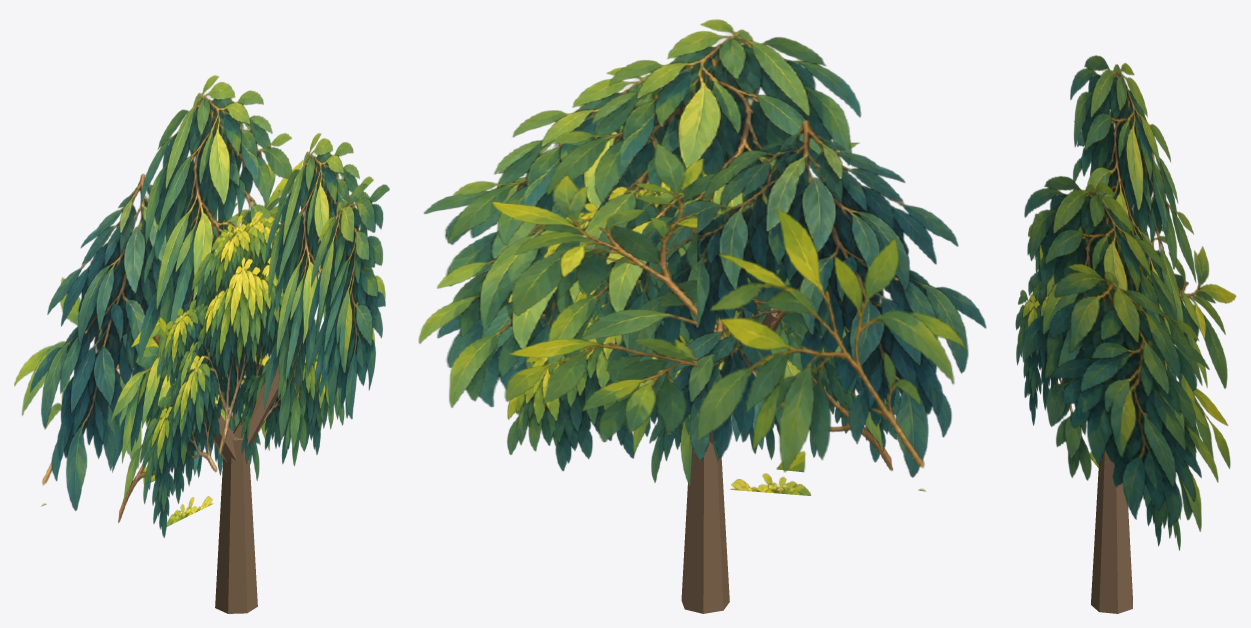
Rendered from TREE_NATIVE_ROUNDED_001_V4_TOP_CORRECTED_LOD_GAMEPLAY.glb.
3 views of the same model, side by side, from view 1: azimuth 30°, elevation 25°; view 2: azimuth 150°, elevation 25°; view 3: azimuth 270°, elevation 25° (orthographic). The views are drawn at different scales.
Visible parts, largest first — view 1: GG_NATIVE_RICH_CARD_03, GG_NATIVE_RICH_CARD_00, GG_NATIVE_RICH_CARD_01, GG_NATIVE_RICH_CARD_02, GG_NATIVE_RICH_CARD_05, GG_NATIVE_RICH_CARD_07, GG_NATIVE_V4_LOCKED_CARCASS_00, GG_NATIVE_RICH_CARD_04, GG_NATIVE_V4_LOCKED_CARCASS_02, GG_NATIVE_RICH_CARD_06, GG_NATIVE_V4_LOCKED_CARCASS_01; view 2: GG_NATIVE_RICH_CARD_01, GG_NATIVE_RICH_CARD_00, GG_NATIVE_RICH_CARD_06, GG_NATIVE_RICH_CARD_04, GG_NATIVE_RICH_CARD_02, GG_NATIVE_RICH_CARD_03, GG_NATIVE_RICH_CARD_07, GG_NATIVE_V4_LOCKED_CARCASS_00, GG_NATIVE_RICH_CARD_05; view 3: GG_NATIVE_RICH_CARD_05, GG_NATIVE_RICH_CARD_02, GG_NATIVE_RICH_CARD_00, GG_NATIVE_V4_LOCKED_CARCASS_00, GG_NATIVE_RICH_CARD_06, GG_NATIVE_RICH_CARD_03.
Boxes of the visible parts, box(x1,y1,x2,y2) form: GG_NATIVE_RICH_CARD_03: box(142, 182, 344, 537); GG_NATIVE_RICH_CARD_00: box(138, 75, 294, 378); GG_NATIVE_RICH_CARD_01: box(30, 173, 218, 510); GG_NATIVE_RICH_CARD_02: box(263, 133, 385, 466); GG_NATIVE_RICH_CARD_05: box(308, 183, 389, 419); GG_NATIVE_RICH_CARD_07: box(110, 299, 269, 526); GG_NATIVE_V4_LOCKED_CARCASS_00: box(215, 430, 257, 613); GG_NATIVE_RICH_CARD_04: box(14, 277, 158, 506); GG_NATIVE_V4_LOCKED_CARCASS_02: box(233, 358, 293, 450); GG_NATIVE_RICH_CARD_06: box(131, 160, 303, 393); GG_NATIVE_V4_LOCKED_CARCASS_01: box(213, 406, 236, 463); GG_NATIVE_RICH_CARD_01: box(628, 120, 986, 477); GG_NATIVE_RICH_CARD_00: box(540, 19, 861, 399); GG_NATIVE_RICH_CARD_06: box(491, 142, 859, 442); GG_NATIVE_RICH_CARD_04: box(697, 209, 965, 491); GG_NATIVE_RICH_CARD_02: box(418, 67, 657, 426); GG_NATIVE_RICH_CARD_03: box(507, 145, 898, 471); GG_NATIVE_RICH_CARD_07: box(618, 306, 900, 495); GG_NATIVE_V4_LOCKED_CARCASS_00: box(681, 441, 729, 613); GG_NATIVE_RICH_CARD_05: box(424, 166, 547, 406); GG_NATIVE_RICH_CARD_05: box(1049, 263, 1209, 527); GG_NATIVE_RICH_CARD_02: box(1022, 176, 1218, 531); GG_NATIVE_RICH_CARD_00: box(1070, 55, 1207, 402); GG_NATIVE_V4_LOCKED_CARCASS_00: box(1091, 450, 1132, 613); GG_NATIVE_RICH_CARD_06: box(1074, 121, 1236, 468); GG_NATIVE_RICH_CARD_03: box(1015, 213, 1180, 550).
Bounding box in the file's own units: 37.71 × 44.23 × 16.66.
Materials: 2 (1 with a texture image).
